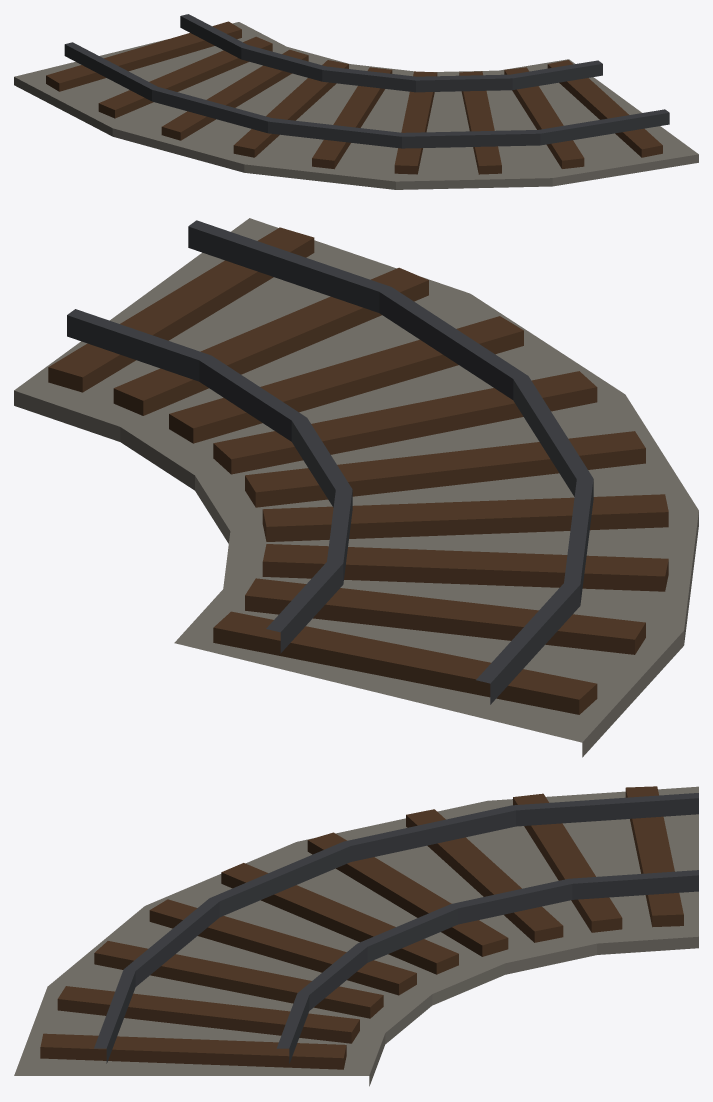
Rendered from road_rail_v_curve_lod1.glb.
The picture shows the model from 3 angles, top to bottom: view 1: azimuth 30°, elevation 25°; view 2: azimuth 150°, elevation 25°; view 3: azimuth 270°, elevation 25°; orthographic projection. The views are drawn at different scales.
Visible parts, largest first — view 1: body; view 2: body; view 3: body.
Boxes of the visible parts, box(x1,y1,x2,y2) form: body: box(14, 14, 698, 189); body: box(14, 218, 698, 757); body: box(14, 786, 698, 1086).
Bounding box in the file's own units: 5.4 × 0.34 × 5.4.
